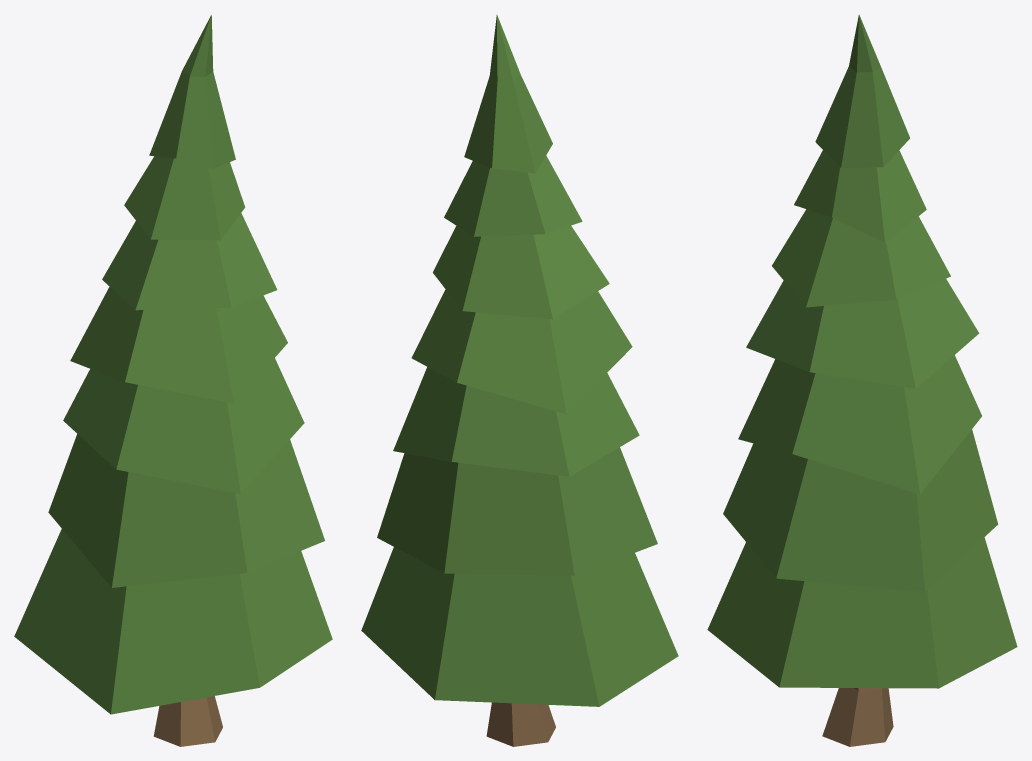
Rendered from pine_1.fbx.
3 renders of one model, left to right at view 1: azimuth 30°, elevation 25°; view 2: azimuth 150°, elevation 25°; view 3: azimuth 270°, elevation 25°, orthographic. The views are drawn at different scales.
Visible parts, largest first — view 1: pine_1; view 2: pine_1; view 3: pine_1.
Boxes of the visible parts, box(x1,y1,x2,y2) form: pine_1: box(14, 15, 332, 746); pine_1: box(361, 15, 678, 746); pine_1: box(707, 14, 1017, 746).
Size of the model in its own units: 148 by 408 by 157.
1 material, 1 textured.
